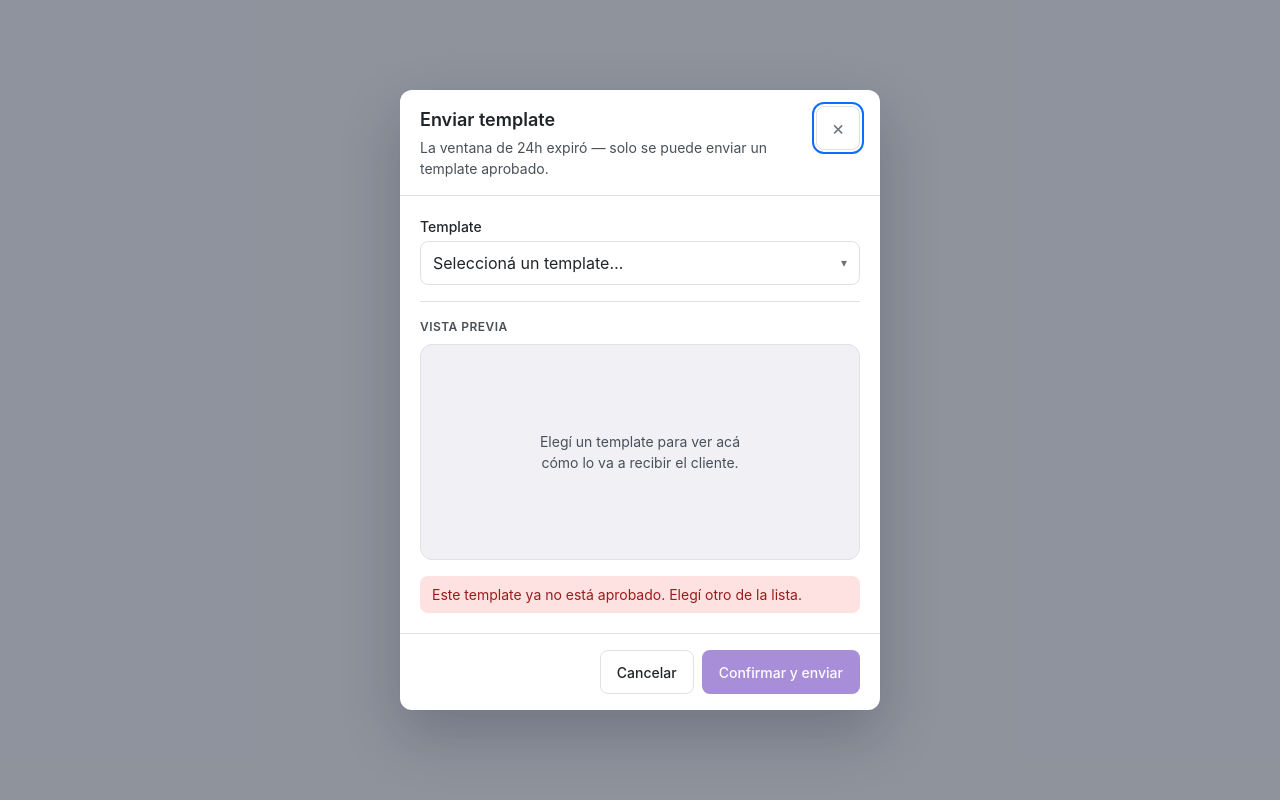
Test case: ERR-1: errores del envío mapeados inline, panel abierto › 422 TEMPLATE_NOT_APPROVED → role=alert con el copy mapeado, catálogo sigue eligible
Expected: the message shows "no está aprobado", [432,586,802,603]
Note: El catálogo sigue permitiendo elegir OTRO template (no queda bloqueado).
Step 1. Click the dropdown labelled "Seleccioná un template… ▾" → (528,263), box [420,241,860,285]
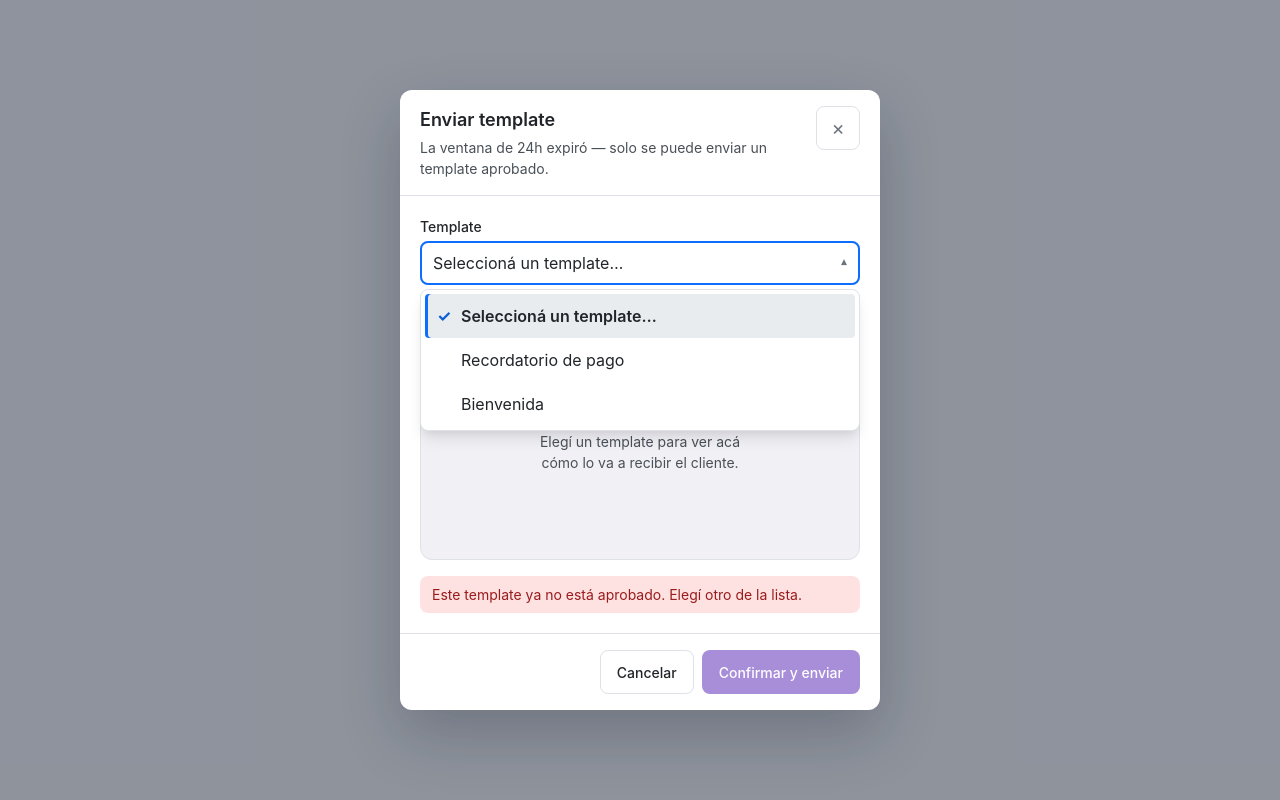
Expected: the option "Bienvenida" is shown, [461,394,544,414]
